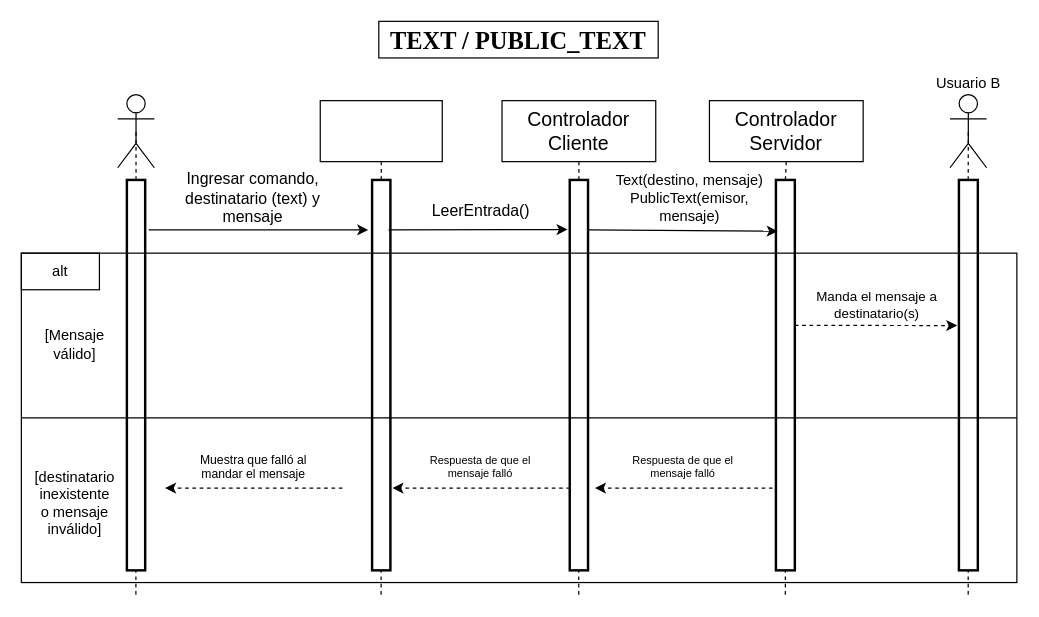
This 1039x617 diagram has some shape labels left out. The centre of each missing label's shape, as x and y in pixels:
Usuario A: point (135, 130)
Vista Cliente: point (380, 130)
